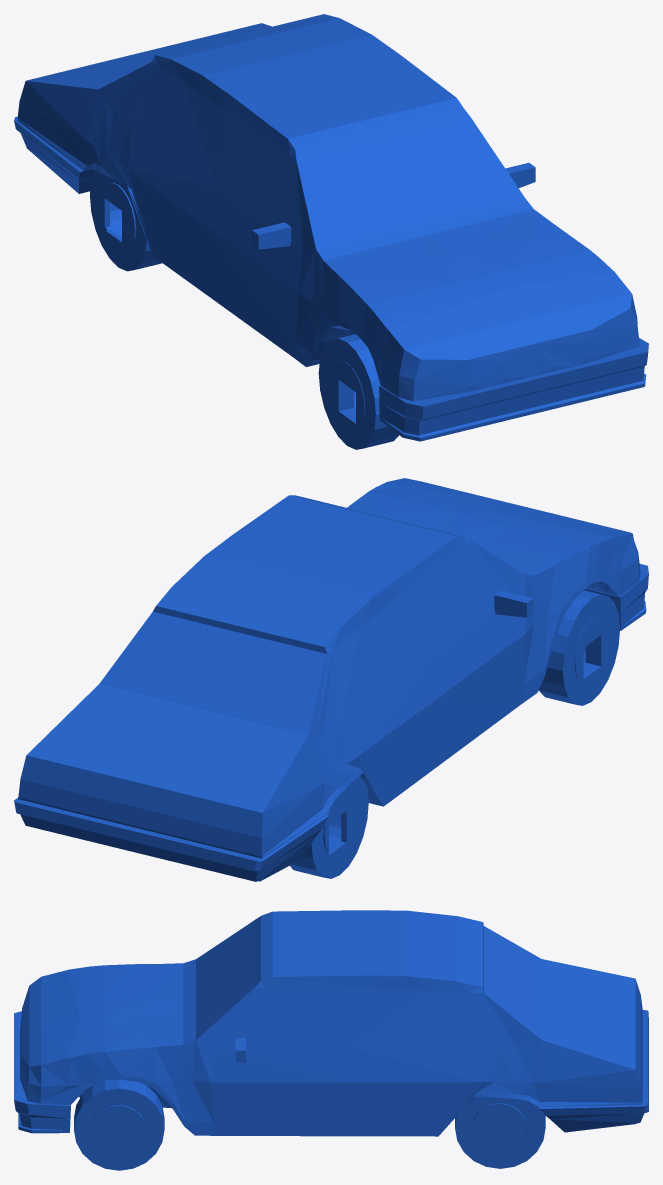
File: CocheAzul.glb
3 views of the same model, one above another, from view 1: azimuth 30°, elevation 25°; view 2: azimuth 150°, elevation 25°; view 3: azimuth 270°, elevation 25° (orthographic). The views are drawn at different scales.
Visible parts, largest first — view 1: Mesh_Mesh_head_geo.001_lambert2SG.001; view 2: Mesh_Mesh_head_geo.001_lambert2SG.001; view 3: Mesh_Mesh_head_geo.001_lambert2SG.001.
Part boxes in pixels (box(x1,y1,x2,y2)): Mesh_Mesh_head_geo.001_lambert2SG.001: box(14, 14, 648, 449); Mesh_Mesh_head_geo.001_lambert2SG.001: box(14, 478, 648, 881); Mesh_Mesh_head_geo.001_lambert2SG.001: box(14, 910, 648, 1170).
Bounding box in the file's own units: 0.0405 × 0.032 × 0.1013.
